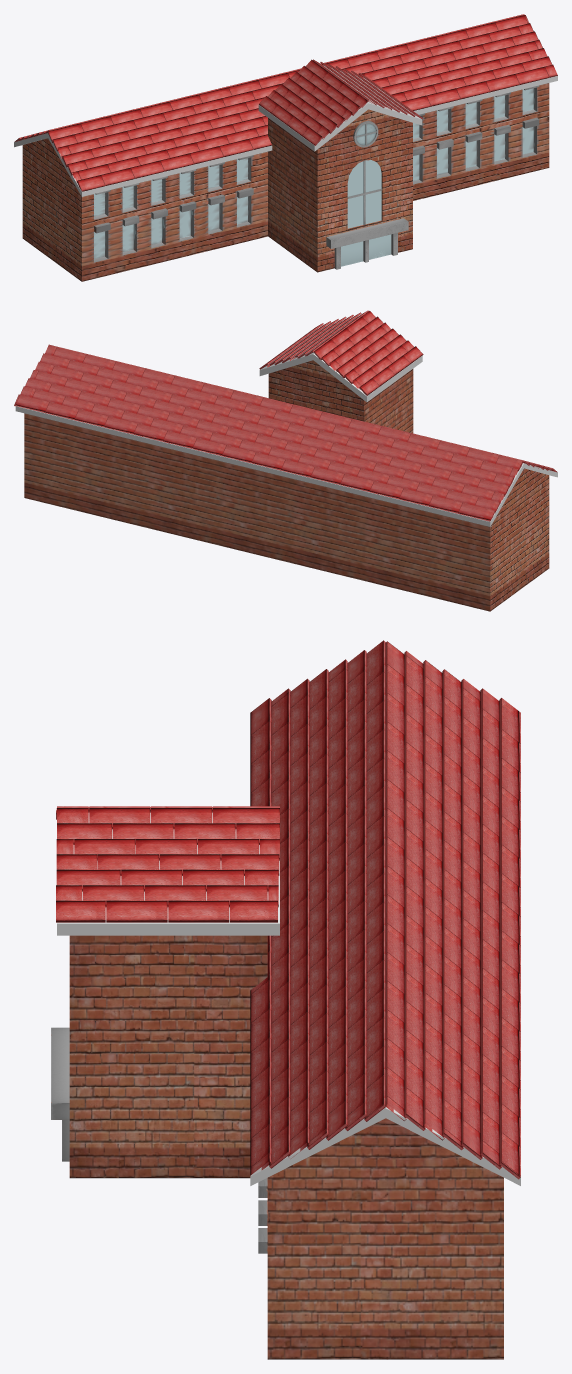
File: S3_School.fbx
3 renders of one model, top to bottom at view 1: azimuth 30°, elevation 25°; view 2: azimuth 150°, elevation 25°; view 3: azimuth 270°, elevation 25°, orthographic. The views are drawn at different scales.
Visible parts, largest first — view 1: SCHOOL2, Cube.001, SCHOOL1, Cube.004, ROOF2, ROOF1, Cube.005, Cube.002, 원형유리; view 2: SCHOOL2, Cube.002, SCHOOL1, Cube.004, ROOF2, ROOF1, Cube.005, Cube.001; view 3: Cube.002, Cube.001, SCHOOL2, SCHOOL1, Cube.005, ROOF1, ROOF2.
Part boxes in pixels (box(x1,y1,x2,y2)): SCHOOL2: box(22, 83, 549, 281); Cube.001: box(47, 15, 557, 191); SCHOOL1: box(268, 109, 412, 272); Cube.004: box(258, 59, 367, 145); ROOF2: box(14, 76, 557, 196); ROOF1: box(258, 65, 422, 151); Cube.005: box(312, 59, 422, 119); Cube.002: box(14, 14, 524, 141); 원형유리: box(353, 121, 378, 147); SCHOOL2: box(24, 413, 549, 611); Cube.002: box(14, 345, 523, 521); SCHOOL1: box(268, 360, 413, 433); Cube.004: box(313, 311, 423, 395); ROOF2: box(15, 406, 557, 526); ROOF1: box(259, 316, 422, 402); Cube.005: box(259, 310, 368, 369); Cube.001: box(49, 344, 557, 472); Cube.002: box(385, 641, 520, 1179); Cube.001: box(250, 640, 385, 1175); SCHOOL2: box(258, 1118, 503, 1359); SCHOOL1: box(51, 935, 267, 1178); Cube.005: box(56, 808, 279, 922); ROOF1: box(57, 812, 279, 935); ROOF2: box(250, 1107, 520, 1185).
Size of the model in its own units: 1632 by 532 by 697.
2 materials, 2 textured.
